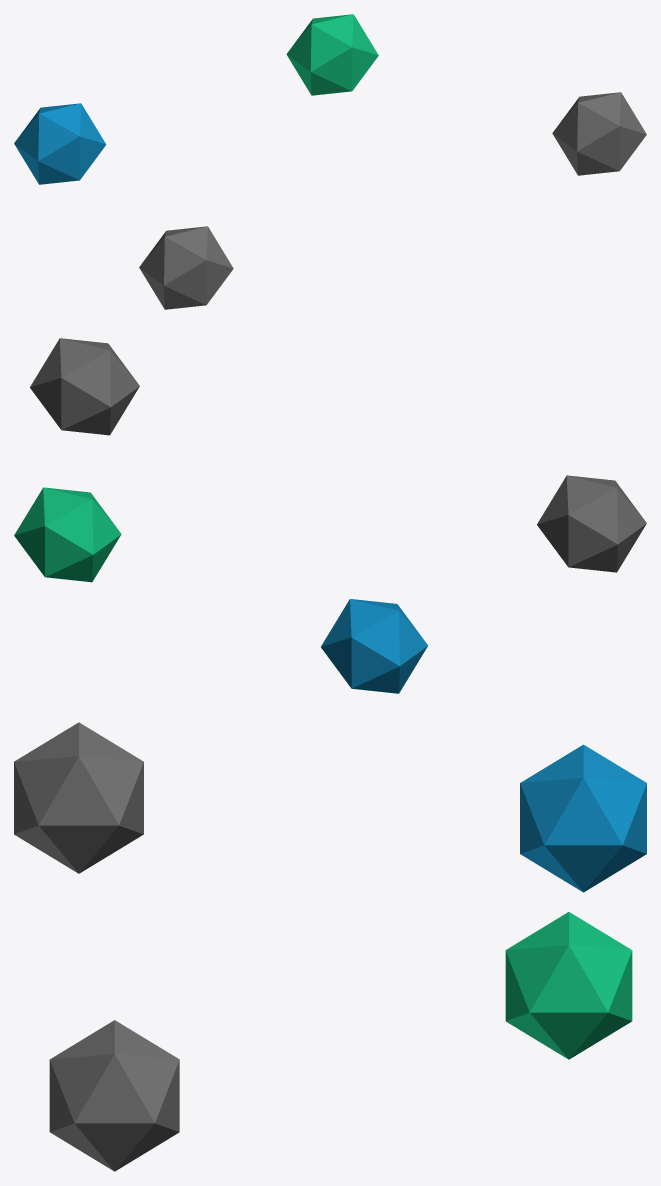
3 renders of one model, top to bottom at view 1: azimuth 30°, elevation 25°; view 2: azimuth 150°, elevation 25°; view 3: azimuth 270°, elevation 25°, orthographic. The views are drawn at different scales.
Parts seen in each view (by area): view 1: 08_08_00; view 2: 08_08_00; view 3: 08_08_00.
Part boxes in pixels (<box>): 08_08_00: <box>14,14,646,309</box>; 08_08_00: <box>14,338,646,693</box>; 08_08_00: <box>14,722,646,1171</box>.
Size of the model in its own units: 0.3936 by 0.0771 by 0.2708.
